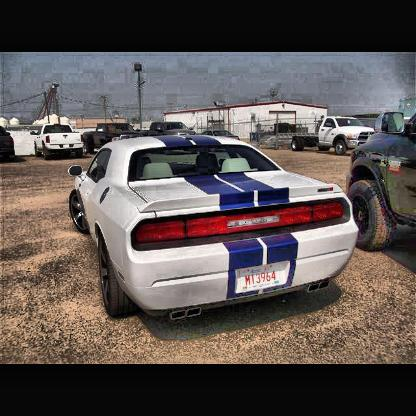Dodge Challenger SRT8 2011: (70, 133, 360, 327)
